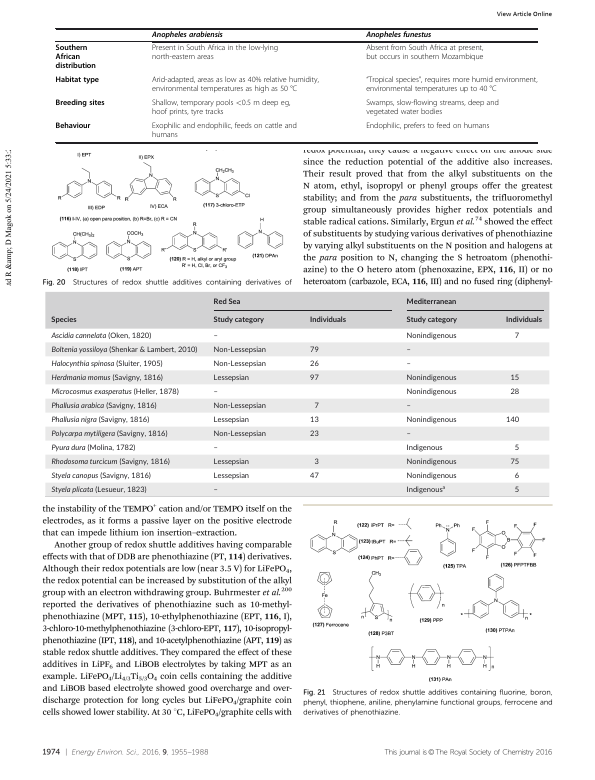borderless: (43, 291, 550, 498), (54, 27, 537, 142)
cell: (365, 76, 538, 95), (151, 76, 320, 95), (151, 122, 298, 141), (151, 99, 291, 118), (365, 99, 500, 118), (151, 44, 279, 63), (365, 44, 484, 63), (50, 344, 197, 356), (50, 386, 179, 398), (50, 456, 170, 468), (50, 428, 168, 440), (50, 358, 163, 370), (50, 372, 163, 384), (50, 400, 157, 412), (365, 122, 490, 132), (50, 330, 151, 342), (50, 470, 151, 482), (54, 44, 97, 72), (50, 414, 149, 426), (50, 484, 147, 496), (50, 442, 135, 454), (405, 295, 456, 308), (151, 31, 224, 40), (212, 344, 266, 356), (212, 358, 266, 370), (212, 400, 266, 412), (212, 428, 266, 440), (212, 314, 264, 326), (405, 314, 457, 326), (405, 330, 457, 342), (405, 372, 457, 384), (405, 386, 457, 398), (405, 414, 457, 426), (405, 456, 457, 468), (405, 470, 457, 482), (365, 31, 432, 40), (405, 483, 445, 496), (54, 99, 106, 109), (54, 76, 100, 86), (405, 442, 443, 454), (212, 372, 249, 384), (212, 414, 249, 426), (212, 456, 249, 468), (212, 470, 249, 482), (212, 295, 241, 308), (54, 122, 91, 132), (50, 314, 77, 326), (308, 316, 346, 324), (504, 316, 542, 324), (308, 344, 319, 356), (308, 358, 319, 370), (308, 372, 319, 384), (504, 417, 519, 424), (308, 417, 319, 424), (308, 431, 319, 438), (308, 473, 319, 480), (513, 470, 519, 482), (509, 375, 519, 382), (509, 389, 519, 396), (509, 459, 519, 466), (212, 333, 218, 340), (513, 333, 519, 340), (405, 347, 411, 354), (405, 361, 411, 368), (212, 389, 218, 396), (313, 403, 319, 410), (405, 403, 411, 410), (405, 431, 411, 438), (212, 445, 218, 452), (513, 445, 519, 452), (313, 459, 319, 466), (212, 487, 218, 494), (513, 487, 519, 494)
